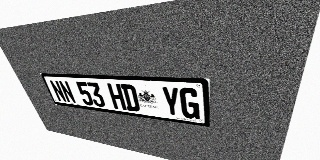3: (86, 82, 106, 107)
5: (75, 81, 95, 106)
D: (120, 84, 141, 112)
G: (179, 87, 200, 120)
H: (107, 83, 127, 110)
N: (58, 80, 77, 104), (49, 80, 67, 102)
Y: (161, 86, 181, 117)
